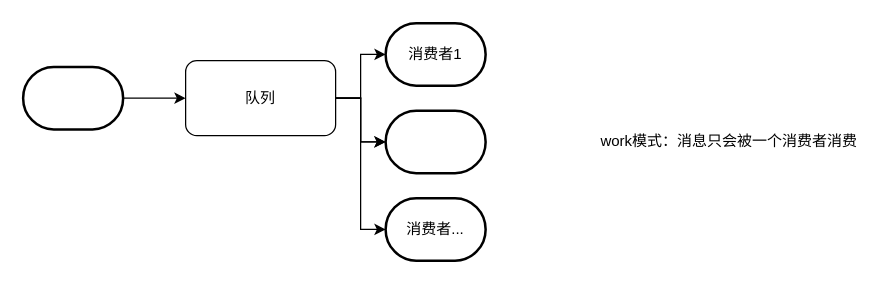
The diagram is 894 pixels wide and 283 high, and some of its shapes have lost their labels. The centre of each missing label's shape, as x and y in pixels:
"消费者2" belongs at (x=435, y=141).
"生产者" belongs at (x=72, y=97).
